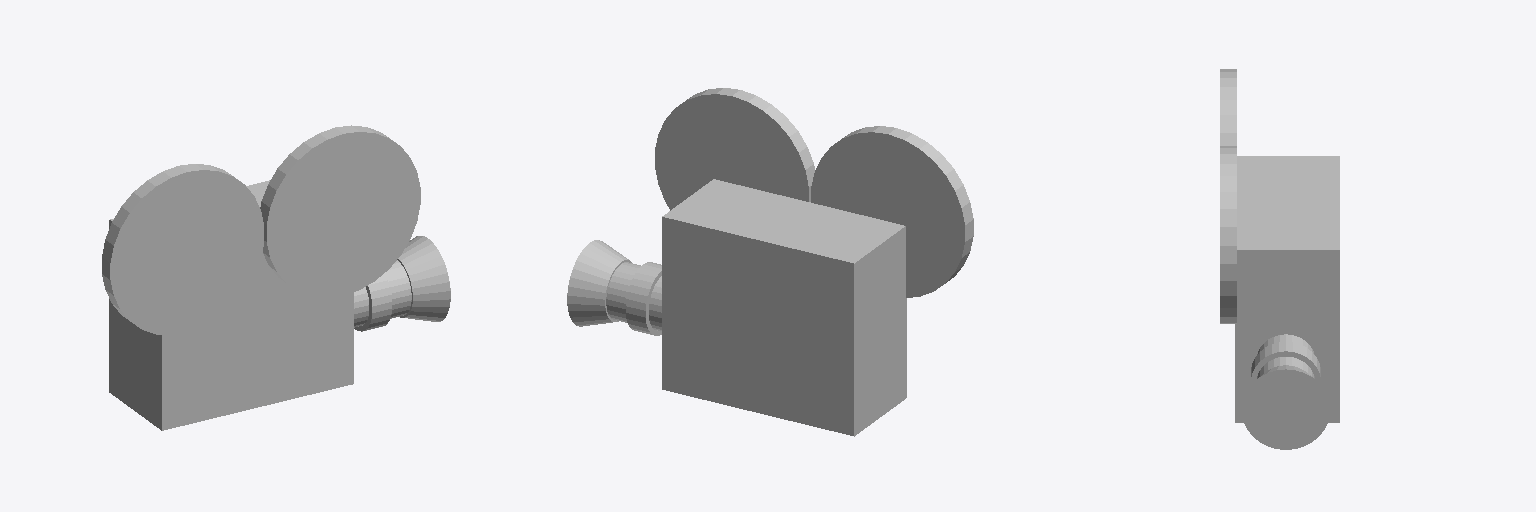
Rendered from camBody.obj.
The picture shows the model from 3 angles: view 1: azimuth 30°, elevation 25°; view 2: azimuth 150°, elevation 25°; view 3: azimuth 270°, elevation 25°; orthographic projection.
Size of the model in its own units: 1.97 by 1.39 by 0.5846.